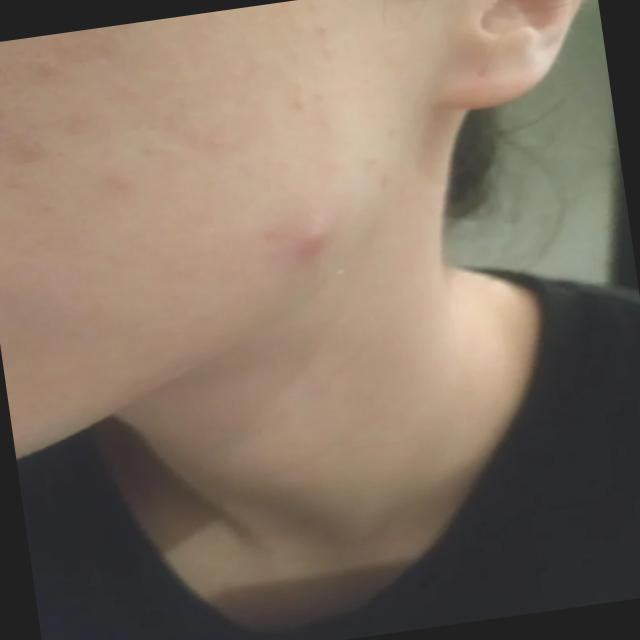nodule: (286, 212, 336, 254)
